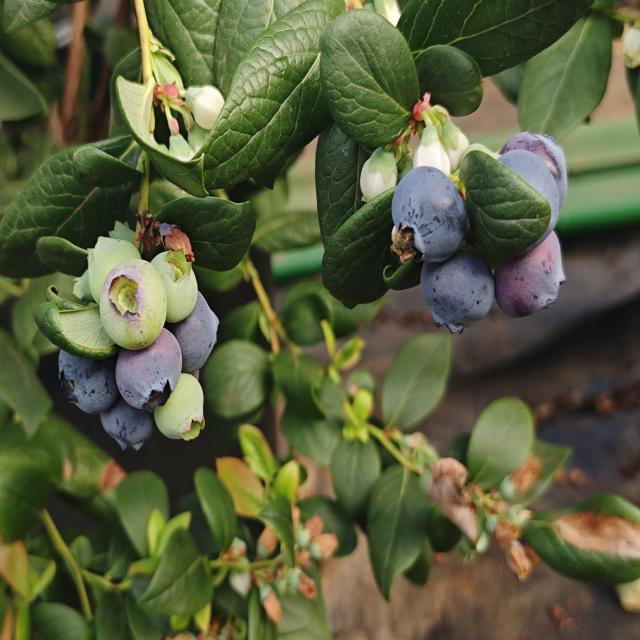ripe: (494, 122, 576, 249), (389, 164, 469, 266), (419, 249, 496, 336), (52, 344, 122, 416), (509, 247, 567, 326), (119, 338, 181, 409), (171, 292, 220, 363), (91, 404, 152, 456)
